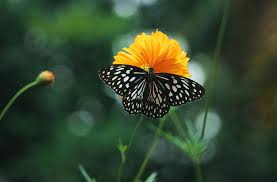Butterfly: (96, 63, 207, 119)
